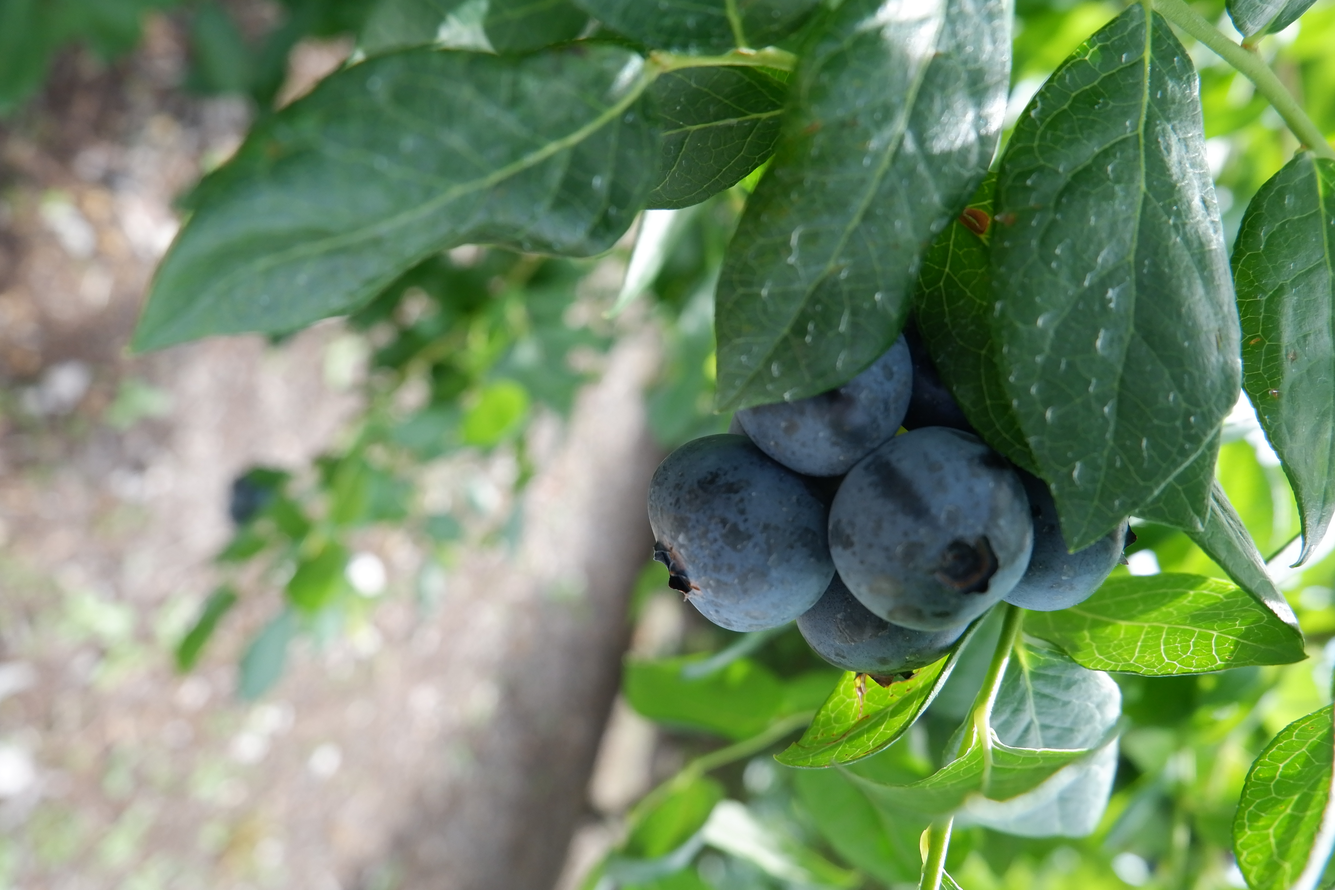Mature: (832, 429, 1032, 629), (651, 437, 829, 627), (737, 339, 909, 472), (800, 574, 966, 675), (1003, 492, 1129, 609), (901, 336, 979, 433)
